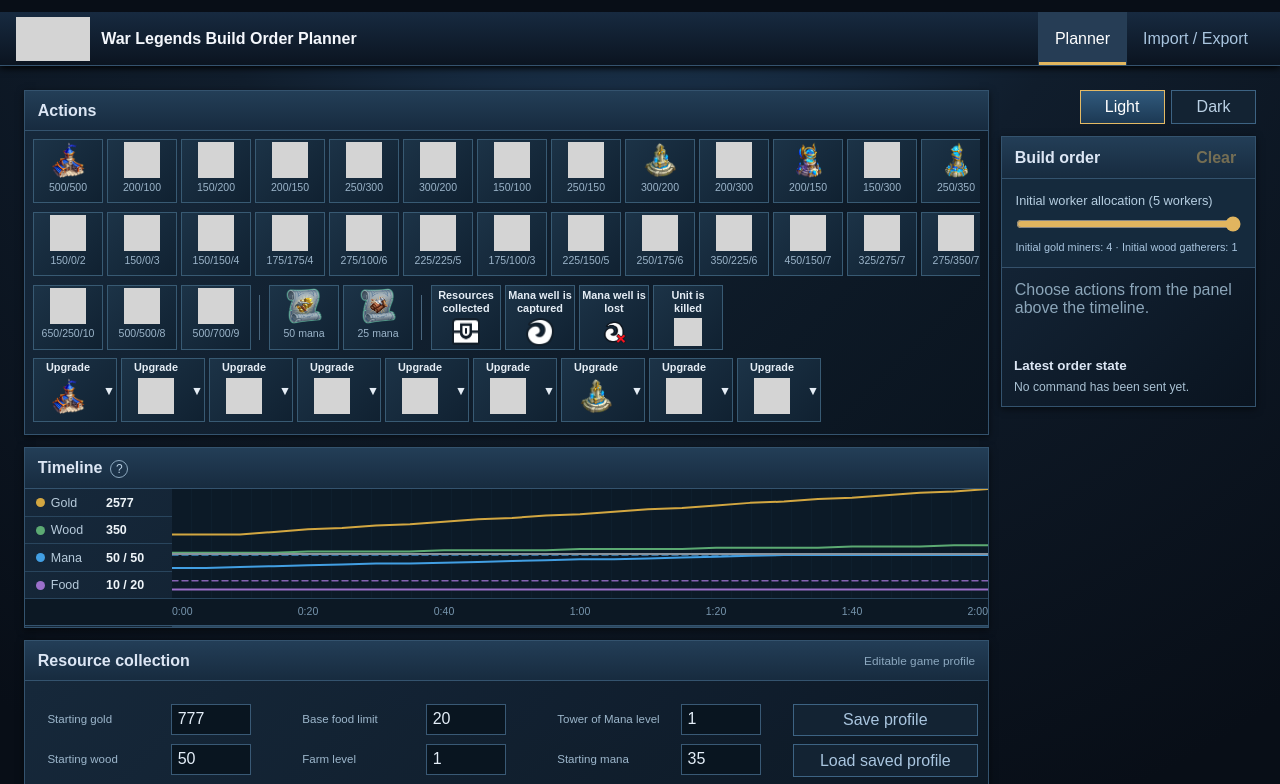
Test: failed explicit save reports failure without changing the saved profile
Replace the text in the number field labelled "Starting gold" with "999" at (211, 719), box 171,704 -> 251,735
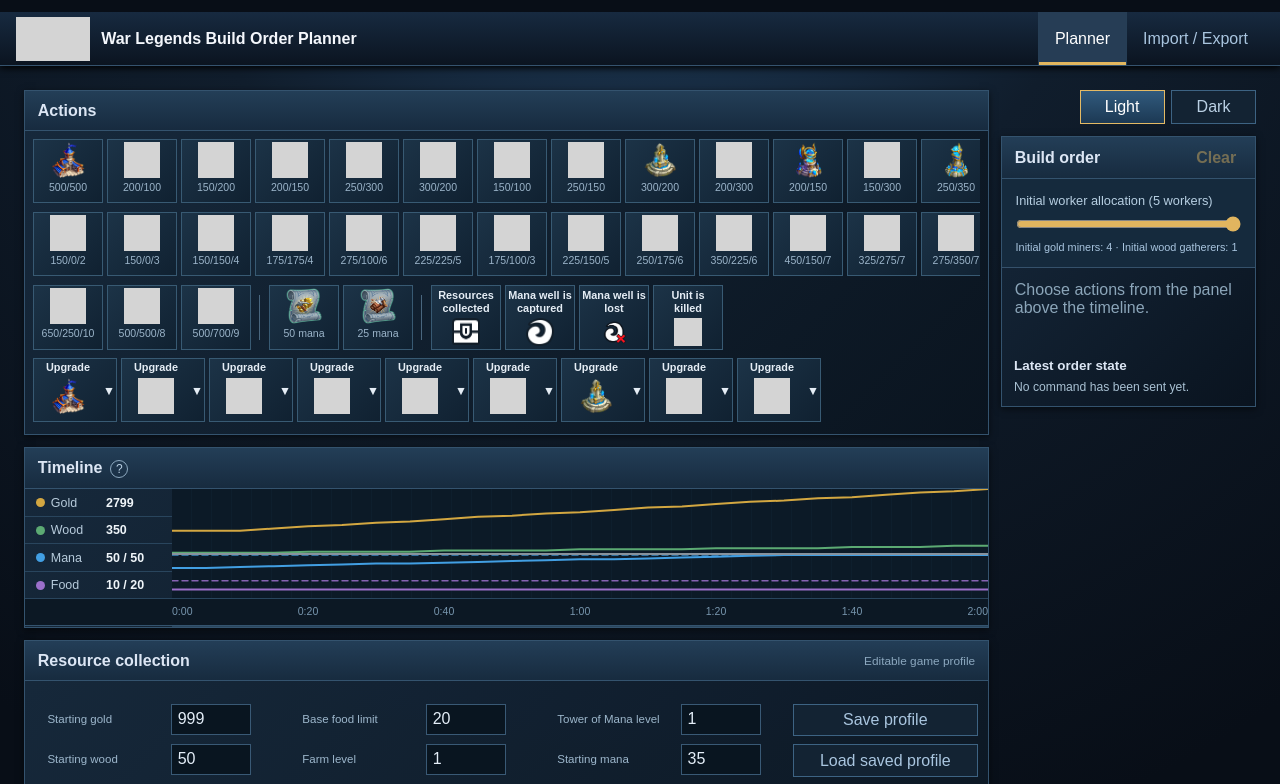
Click the button "Save profile".
click(885, 720)  # box 793,704 -> 978,736
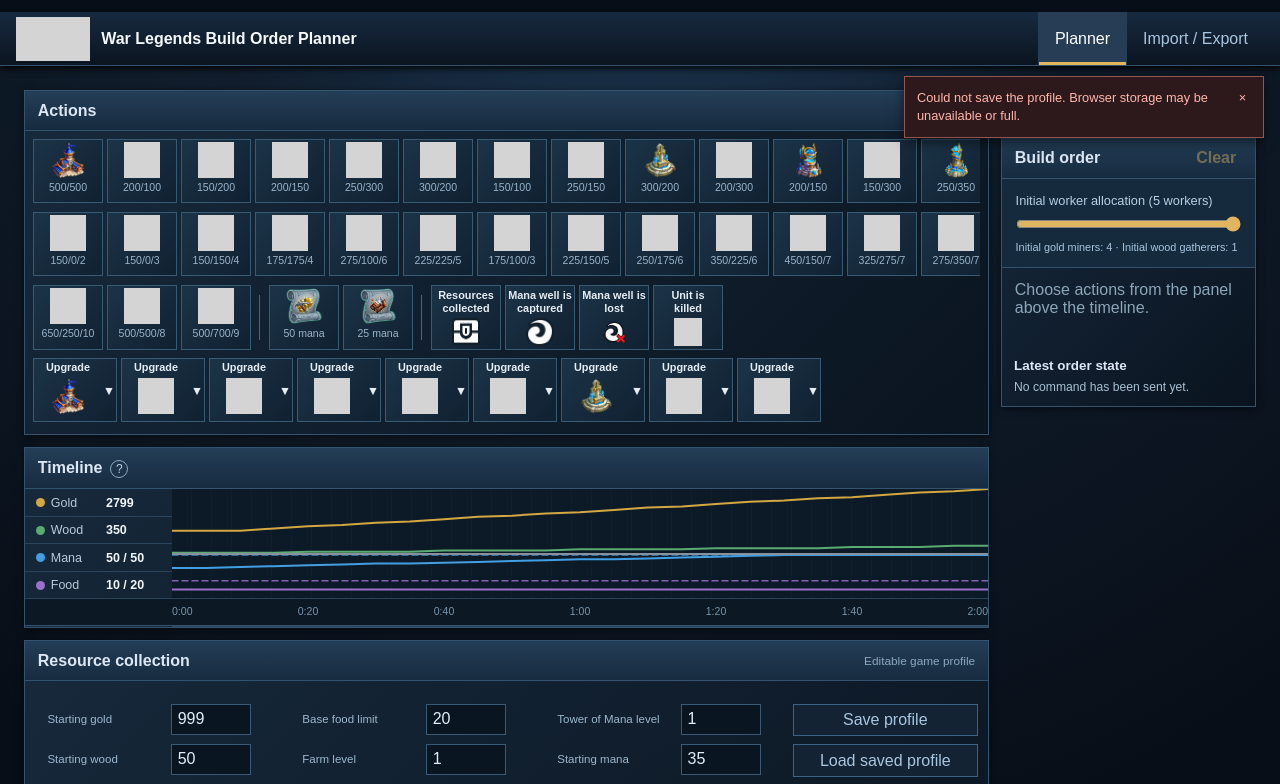
expect the message shows "Could not save": met, box 917,90 -> 1208,123
